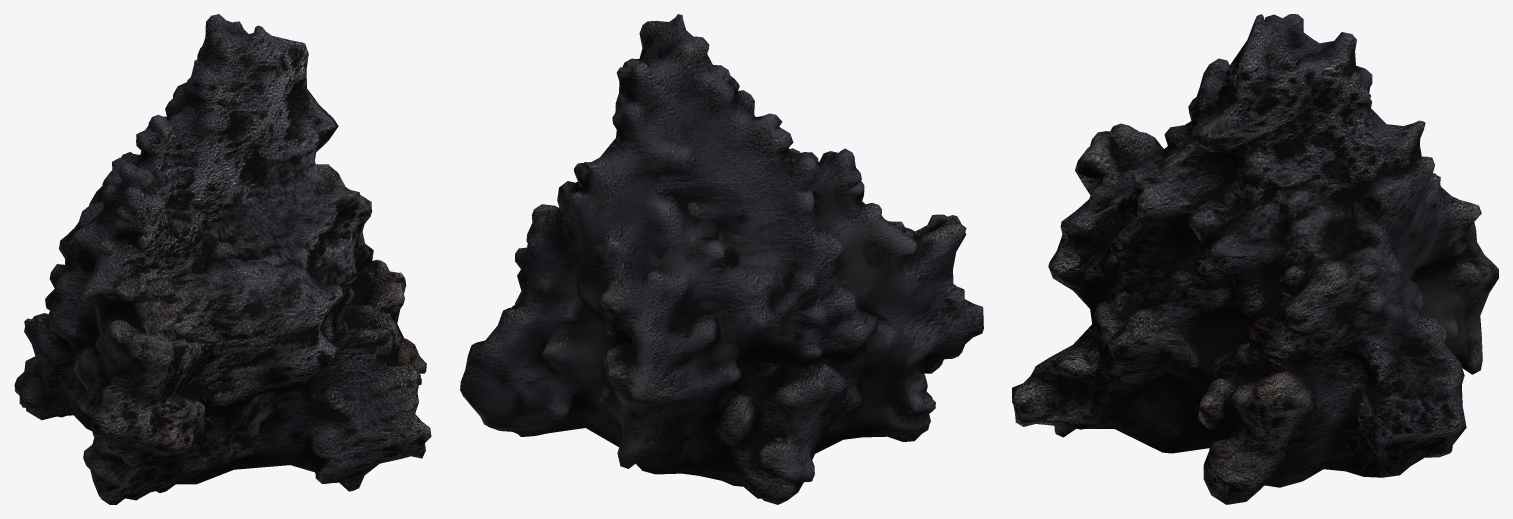
The model's file is selected.glb.
3 renders of one model, left to right at view 1: azimuth 30°, elevation 25°; view 2: azimuth 150°, elevation 25°; view 3: azimuth 270°, elevation 25°, orthographic. The views are drawn at different scales.
Visible parts, largest first — view 1: tripo_node_327fb563-e63a-4b69-9fb8-77d81c86baaa; view 2: tripo_node_327fb563-e63a-4b69-9fb8-77d81c86baaa; view 3: tripo_node_327fb563-e63a-4b69-9fb8-77d81c86baaa.
Boxes of the visible parts, x1,y1,x2,y2 form: tripo_node_327fb563-e63a-4b69-9fb8-77d81c86baaa: (14, 14, 431, 504); tripo_node_327fb563-e63a-4b69-9fb8-77d81c86baaa: (460, 14, 983, 504); tripo_node_327fb563-e63a-4b69-9fb8-77d81c86baaa: (1012, 14, 1498, 504).
Size of the model in its own units: 0.9687 by 0.9765 by 1.
1 material, 1 textured.
